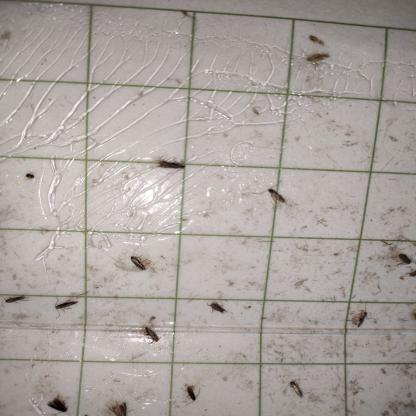prays_oleae: (124, 244, 154, 283), (177, 378, 207, 412), (3, 280, 32, 315), (266, 180, 291, 220), (345, 300, 370, 340), (159, 154, 190, 185), (201, 291, 229, 325), (288, 372, 311, 412), (394, 238, 415, 278), (139, 323, 165, 354), (53, 292, 75, 326), (48, 391, 72, 415), (308, 44, 333, 67), (110, 396, 132, 414), (306, 38, 326, 47)
